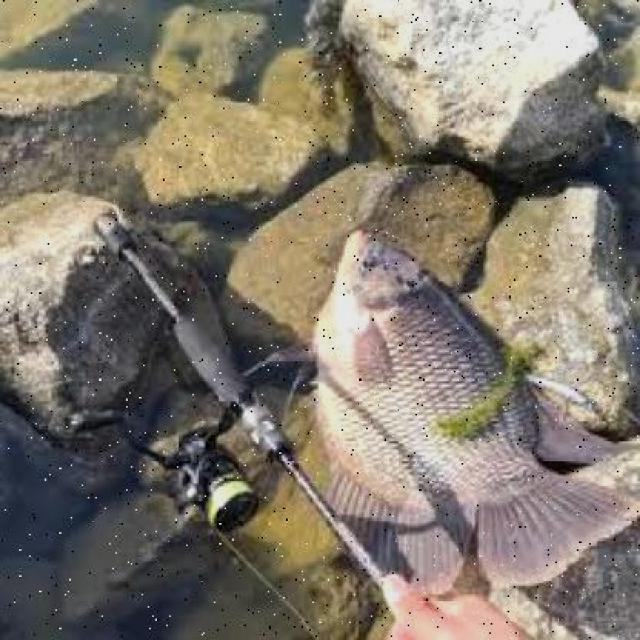gurame: (310, 222, 628, 600)
